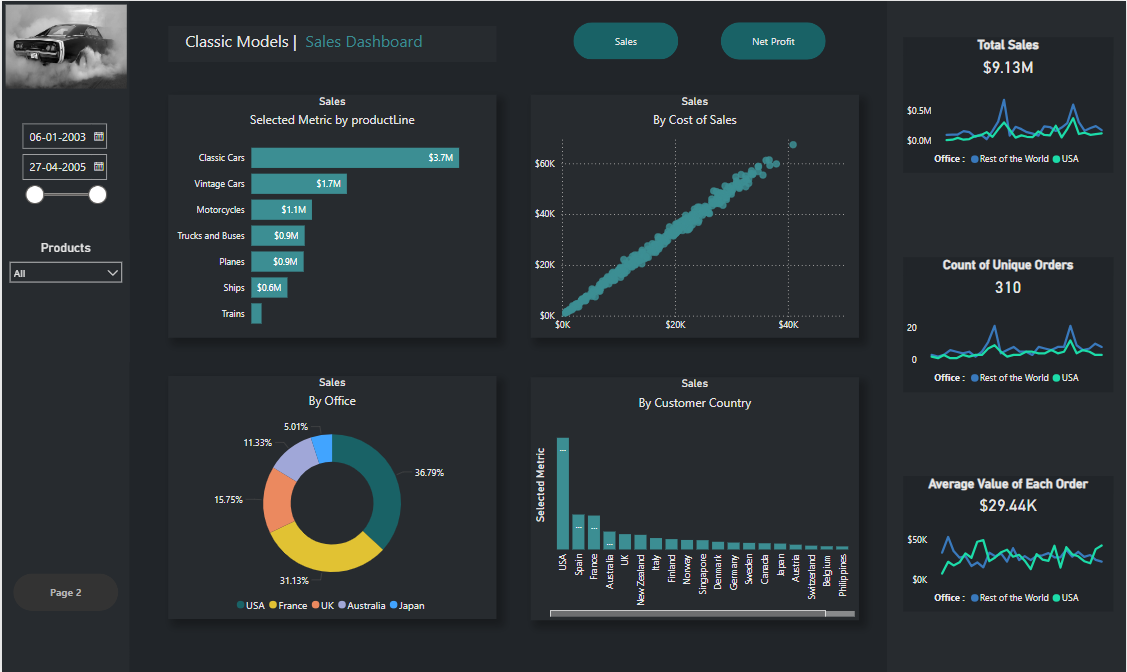

Layout of this report page (visuals, bound fields, positions):
{"tool":"powerbi","page":{"name":"Sales Overview - Page 1","canvas":[1500,900],"ordinal":0},"visuals":[{"type":"shape","box":[0,0,170,900.5],"z":0},{"type":"shape","box":[1180.3,0,320,900.5],"z":1000},{"type":"shape","box":[1201.2,48.2,279.8,180.1],"z":2000},{"type":"shape","box":[1201.2,340.9,279.8,180.1],"z":3000},{"type":"shape","box":[1201.2,633.6,279.8,180.1],"z":4000},{"type":"card","title":"Total Sales","fields":{"Values":["Sum(classicmodels sales_data_for_power_bi.sales_value)"]},"box":[1201.2,48.2,279.8,59.5],"z":5000},{"type":"card","title":"Count of Unique Orders","fields":{"Values":["Count(classicmodels sales_data_for_power_bi.ordernumber)"]},"box":[1201.2,340.9,279.8,59.5],"z":6000},{"type":"card","title":"Average Value of Each Order","fields":{"Values":["classicmodels sales_data_for_power_bi.Average Sales Value per Order"]},"box":[1201.2,633.6,279.8,59.5],"z":7000},{"type":"lineChart","fields":{"Y":["Sum(classicmodels sales_data_for_power_bi.sales_value)"],"Category":["classicmodels sales_data_for_power_bi.orderdate.Variation.Date Hierarchy.Year","classicmodels sales_data_for_power_bi.orderdate.Variation.Date Hierarchy.Quarter","classicmodels sales_data_for_power_bi.orderdate.Variation.Date Hierarchy.Month"],"Series":["classicmodels sales_data_for_power_bi.Office Grouped"]},"box":[1201.2,107.7,279.8,120.6],"z":8000},{"type":"lineChart","fields":{"Category":["classicmodels sales_data_for_power_bi.orderdate.Variation.Date Hierarchy.Year","classicmodels sales_data_for_power_bi.orderdate.Variation.Date Hierarchy.Quarter","classicmodels sales_data_for_power_bi.orderdate.Variation.Date Hierarchy.Month"],"Series":["classicmodels sales_data_for_power_bi.Office Grouped"],"Y":["Count(classicmodels sales_data_for_power_bi.ordernumber)"]},"box":[1201.2,400.4,279.8,120.6],"z":9000},{"type":"lineChart","fields":{"Category":["classicmodels sales_data_for_power_bi.orderdate.Variation.Date Hierarchy.Year","classicmodels sales_data_for_power_bi.orderdate.Variation.Date Hierarchy.Quarter","classicmodels sales_data_for_power_bi.orderdate.Variation.Date Hierarchy.Month"],"Series":["classicmodels sales_data_for_power_bi.Office Grouped"],"Y":["classicmodels sales_data_for_power_bi.Average Sales Value per Order"]},"box":[1201.2,693.1,279.8,120.6],"z":10000},{"type":"clusteredBarChart","fields":{"Y":["Table.Selected Metric"],"Category":["classicmodels sales_data_for_power_bi.productLine"]},"box":[221.7,125.2,437.3,324.2],"z":11000},{"type":"actionButton","title":"Sales","box":[761.6,28.7,140.2,49.8],"z":12000},{"type":"actionButton","title":"Sales","box":[959.1,28.7,140,50],"z":13000},{"type":"scatterChart","fields":{"Y":["Table.Selected Metric"],"X":["Sum(classicmodels sales_data_for_power_bi.cost_of_sales)"],"Category":["classicmodels sales_data_for_power_bi.ordernumber"]},"box":[705.8,125.2,437.3,324.2],"z":15000},{"type":"donutChart","fields":{"Y":["Table.Selected Metric"],"Category":["classicmodels sales_data_for_power_bi.office_country"]},"box":[221.7,500.7,437.3,324.2],"z":16000},{"type":"columnChart","fields":{"Y":["Table.Selected Metric"],"Category":["classicmodels sales_data_for_power_bi.customer_country"]},"box":[705.8,502.2,437.3,324.2],"z":17000},{"type":"textbox","box":[221.7,33.2,437.3,48.3],"z":18000},{"type":"actionButton","title":"Sales","box":[15,763.3,140,50],"z":19000},{"type":"slicer","fields":{"Values":["classicmodels sales_data_for_power_bi.orderdate"]},"box":[15,153.3,136.7,151.7],"z":20000},{"type":"slicer","title":"Products","fields":{"Values":["classicmodels sales_data_for_power_bi.productName"]},"box":[0,318.3,170,163.3],"z":21000},{"type":"image","box":[0,0,171.7,121.7],"z":22000}]}

Visuals, with their boxes in screenshot pixels (x1, y1, x2, y2), scaled from the page's 1500x900 canvas onto the 1127x672 screenshot:
shape: BBox(0, 0, 128, 671)
shape: BBox(887, 0, 1126, 671)
shape: BBox(903, 36, 1113, 170)
shape: BBox(903, 255, 1113, 389)
shape: BBox(903, 473, 1113, 608)
"Total Sales" card: BBox(903, 36, 1113, 80)
"Count of Unique Orders" card: BBox(903, 255, 1113, 299)
"Average Value of Each Order" card: BBox(903, 473, 1113, 518)
lineChart - Sum(classicmodels sales_data_for_power_bi.sales_value) x classicmodels sales_data_for_power_bi.orderdate.Variation.Date Hierarchy.Year: BBox(903, 80, 1113, 170)
lineChart - classicmodels sales_data_for_power_bi.orderdate.Variation.Date Hierarchy.Year x classicmodels sales_data_for_power_bi.orderdate.Variation.Date Hierarchy.Quarter: BBox(903, 299, 1113, 389)
lineChart - classicmodels sales_data_for_power_bi.orderdate.Variation.Date Hierarchy.Year x classicmodels sales_data_for_power_bi.orderdate.Variation.Date Hierarchy.Quarter: BBox(903, 518, 1113, 608)
clusteredBarChart - Table.Selected Metric x classicmodels sales_data_for_power_bi.productLine: BBox(167, 93, 495, 336)
"Sales" actionButton: BBox(572, 21, 678, 59)
"Sales" actionButton: BBox(721, 21, 826, 59)
scatterChart - Table.Selected Metric x Sum(classicmodels sales_data_for_power_bi.cost_of_sales): BBox(530, 93, 859, 336)
donutChart - Table.Selected Metric x classicmodels sales_data_for_power_bi.office_country: BBox(167, 374, 495, 616)
columnChart - Table.Selected Metric x classicmodels sales_data_for_power_bi.customer_country: BBox(530, 375, 859, 617)
textbox: BBox(167, 25, 495, 61)
"Sales" actionButton: BBox(11, 570, 116, 607)
slicer - classicmodels sales_data_for_power_bi.orderdate: BBox(11, 114, 114, 228)
"Products" slicer: BBox(0, 238, 128, 360)
image: BBox(0, 0, 129, 91)
